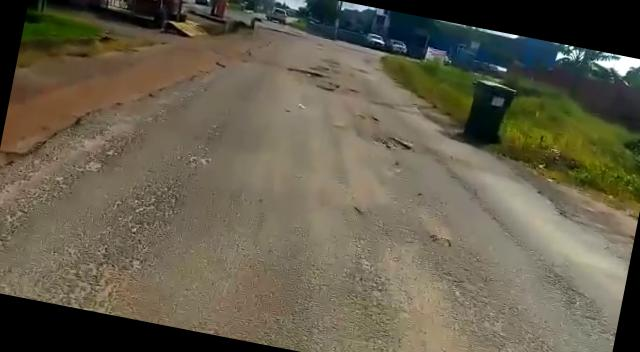pothole: (371, 132, 415, 156), (284, 63, 330, 80), (314, 81, 336, 94)
